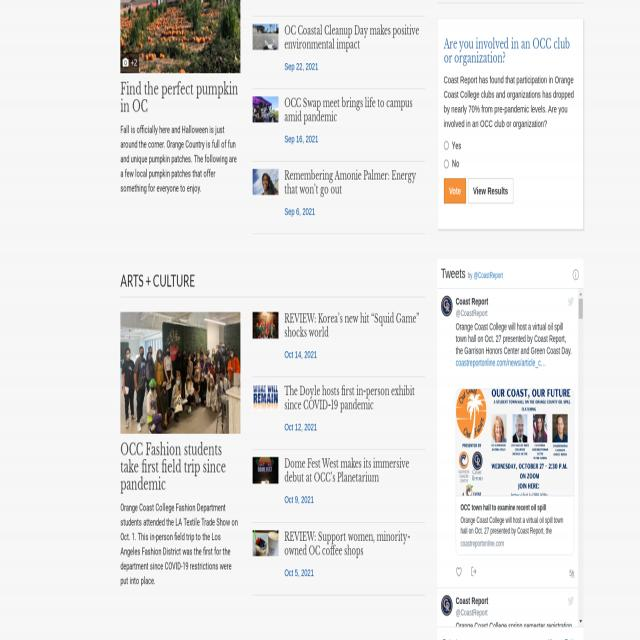button: (455, 388, 572, 554), (120, 312, 240, 434), (120, 0, 240, 73), (468, 178, 513, 204), (252, 312, 278, 338), (252, 24, 278, 50), (252, 530, 278, 556), (252, 97, 278, 122), (252, 385, 278, 410), (252, 458, 278, 483), (252, 170, 278, 194), (444, 178, 466, 204), (442, 294, 454, 316), (454, 561, 464, 582), (442, 594, 452, 615), (468, 561, 478, 581), (565, 291, 576, 309), (566, 594, 577, 608), (578, 297, 584, 319), (572, 270, 580, 281), (122, 57, 129, 67), (578, 288, 583, 300), (578, 617, 584, 626)
field: (444, 141, 449, 151), (444, 160, 449, 170)
